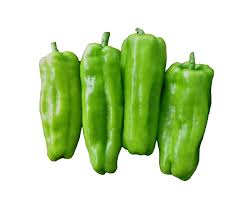bell pepper: (73, 22, 123, 187), (157, 45, 212, 190), (33, 41, 83, 176), (120, 23, 160, 167)
